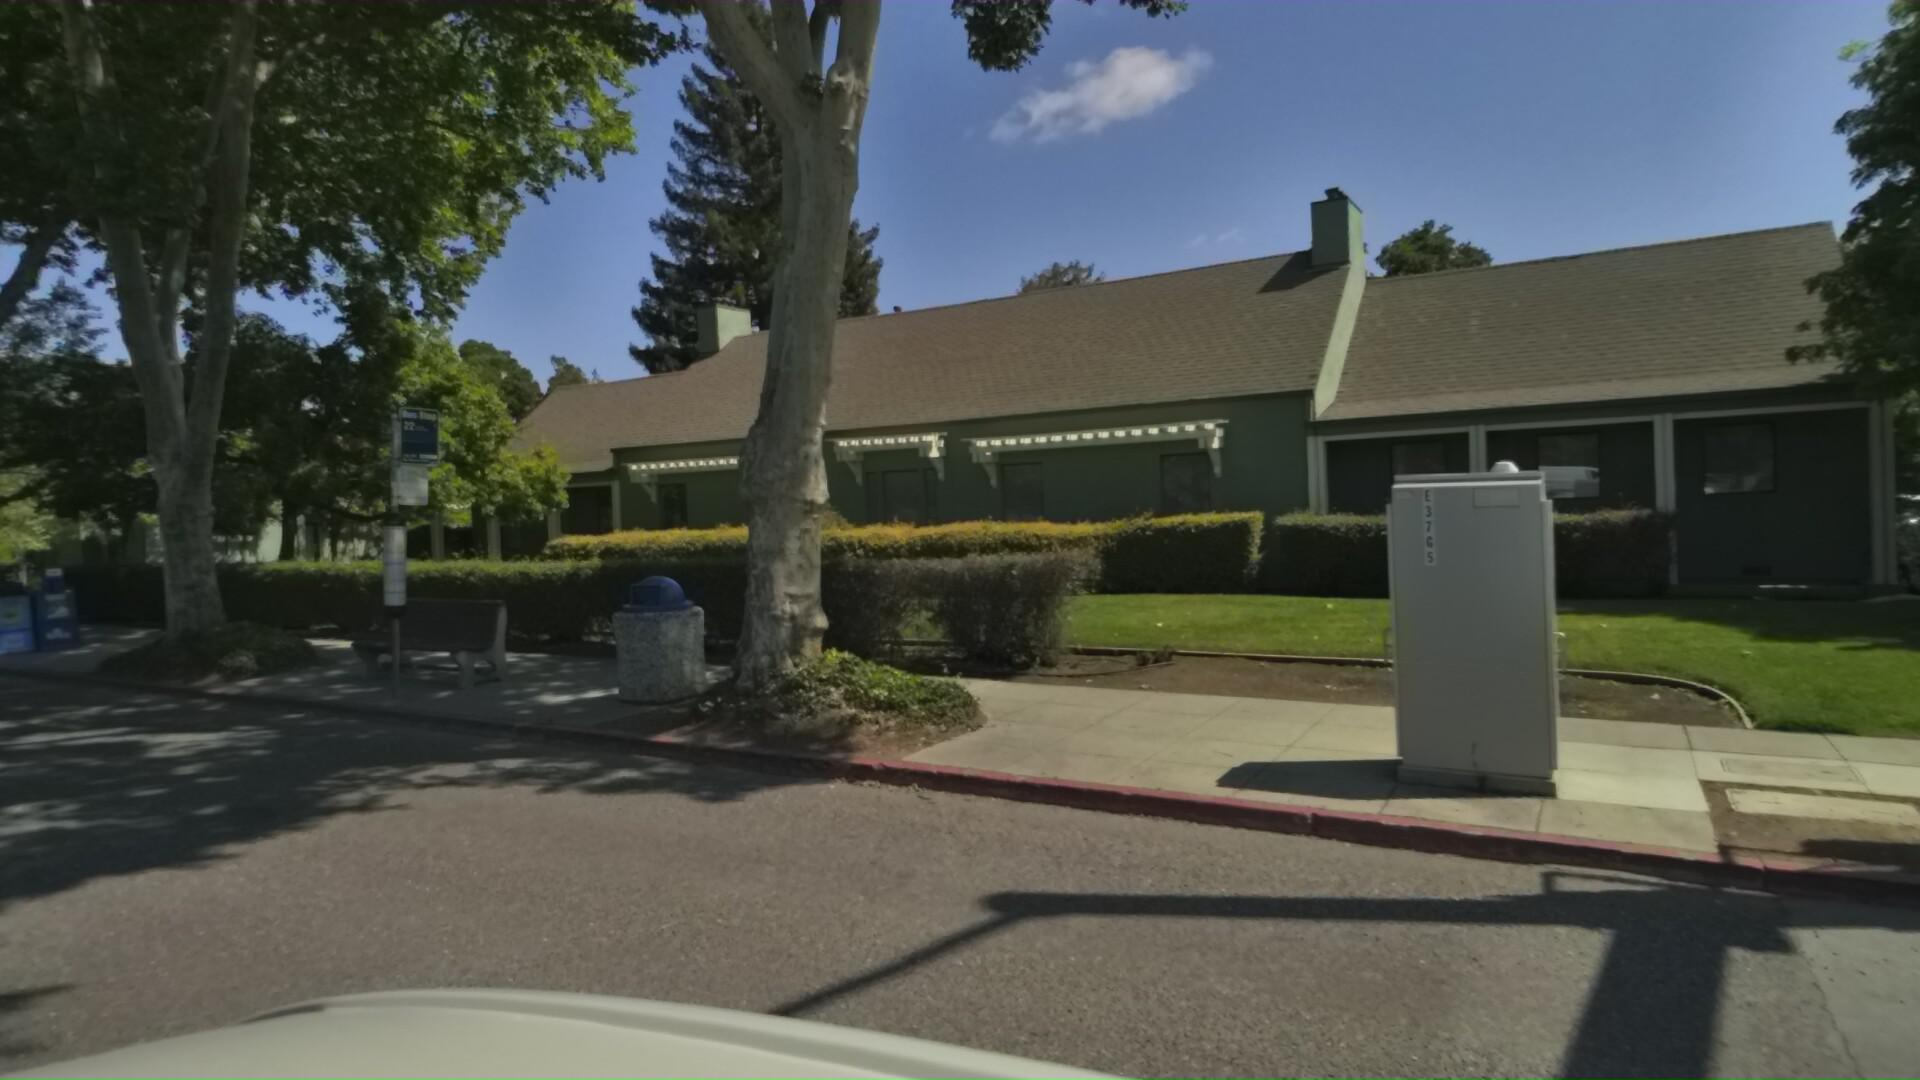car: (1826, 481, 1920, 570)
